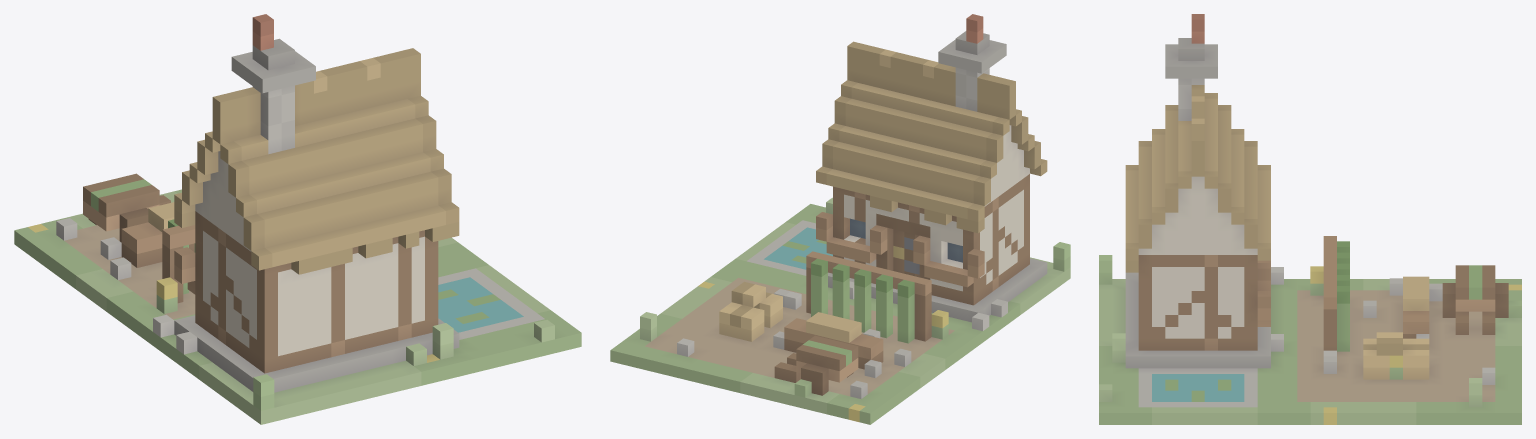
The model's file is hemp_farm.glb.
3 views of the same model, side by side, from view 1: azimuth 30°, elevation 25°; view 2: azimuth 150°, elevation 25°; view 3: azimuth 270°, elevation 25° (orthographic). The views are drawn at different scales.
Parts seen in each view (by area): view 1: hemp_farm; view 2: hemp_farm; view 3: hemp_farm.
Part boxes in pixels (box(x1,y1,x2,y2)): hemp_farm: box(14, 14, 581, 424); hemp_farm: box(610, 14, 1070, 424); hemp_farm: box(1099, 14, 1521, 424).
Size of the model in its own units: 3 by 3.12 by 4.
